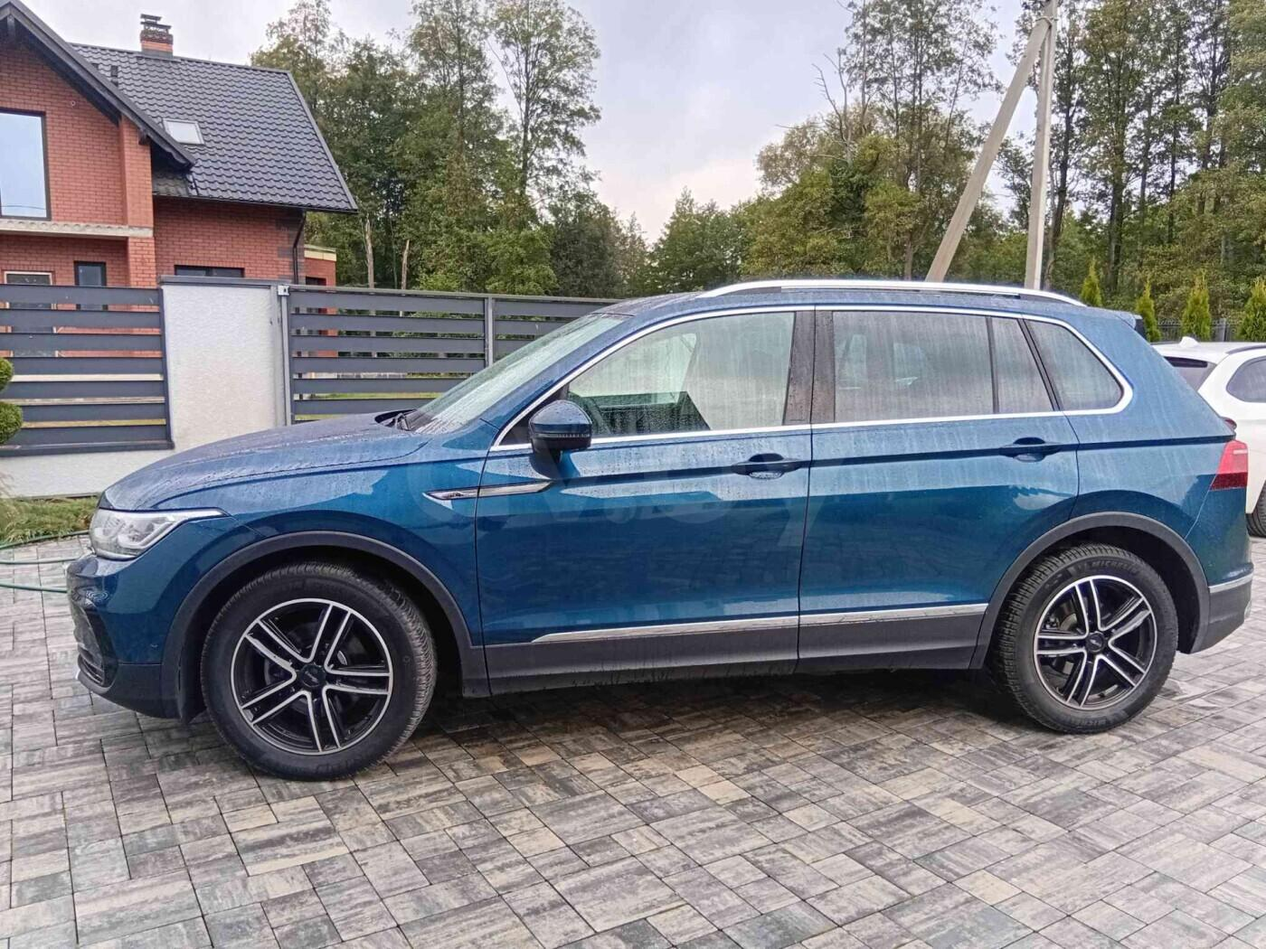Tiguan_2020-2024: (61, 279, 1253, 780)
